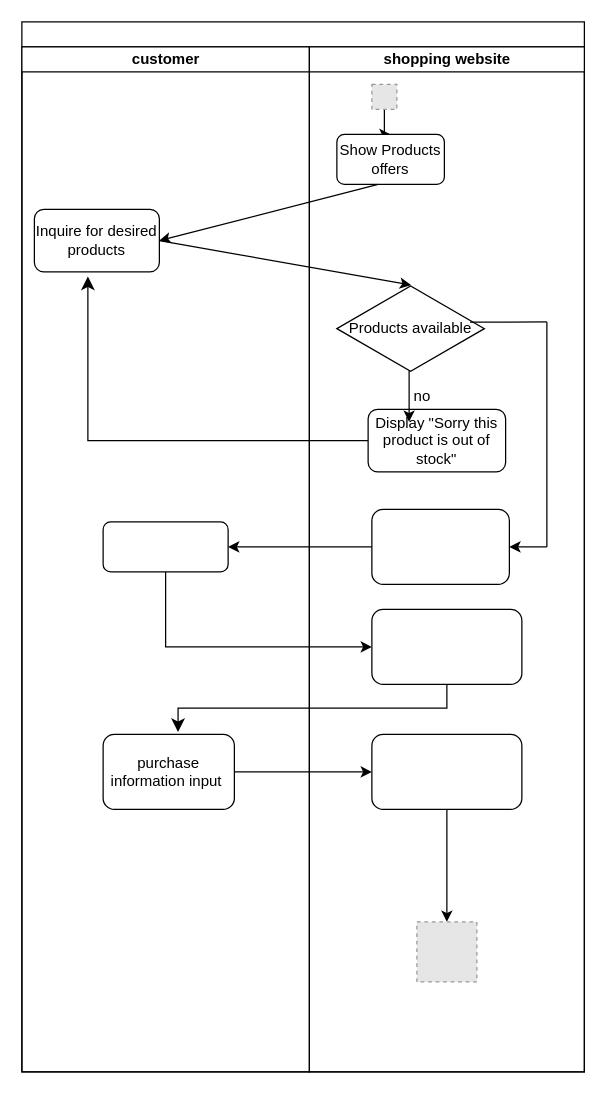
This 606x1094 diagram has some shape labels left out. Grey dashed boxes stand in for pictures. The shapes that lost their labels are listed below. From the top down, each one's centre as x and y in pixels, then its label:
the point at 165,546: Select Quantity and purchase
the point at 440,546: Display products available
the point at 446,646: Display purchase information form
the point at 446,771: display "wait for delivery"
